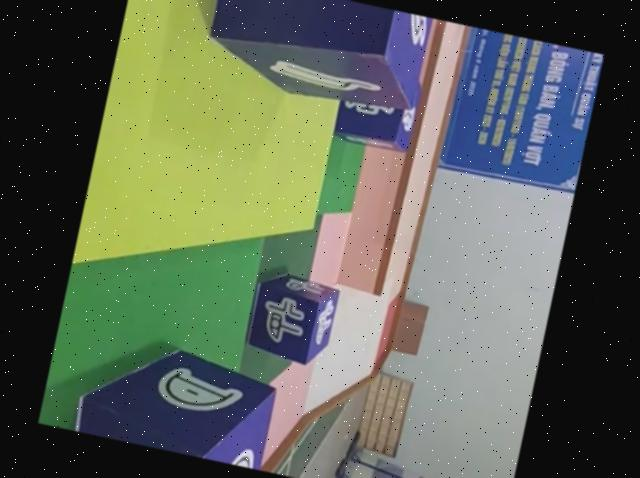R2 Real Blue: (70, 331, 279, 470), (195, 0, 433, 117), (239, 269, 338, 370)
